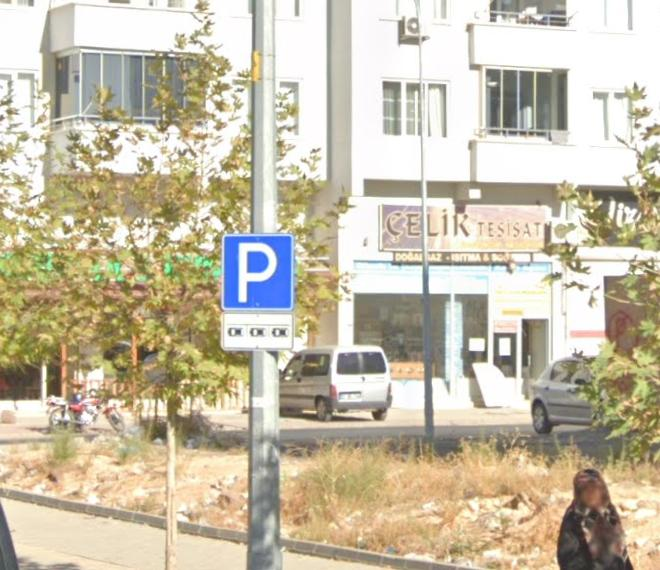park: (220, 232, 296, 315)
